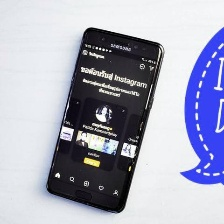phone: (43, 24, 166, 216)
